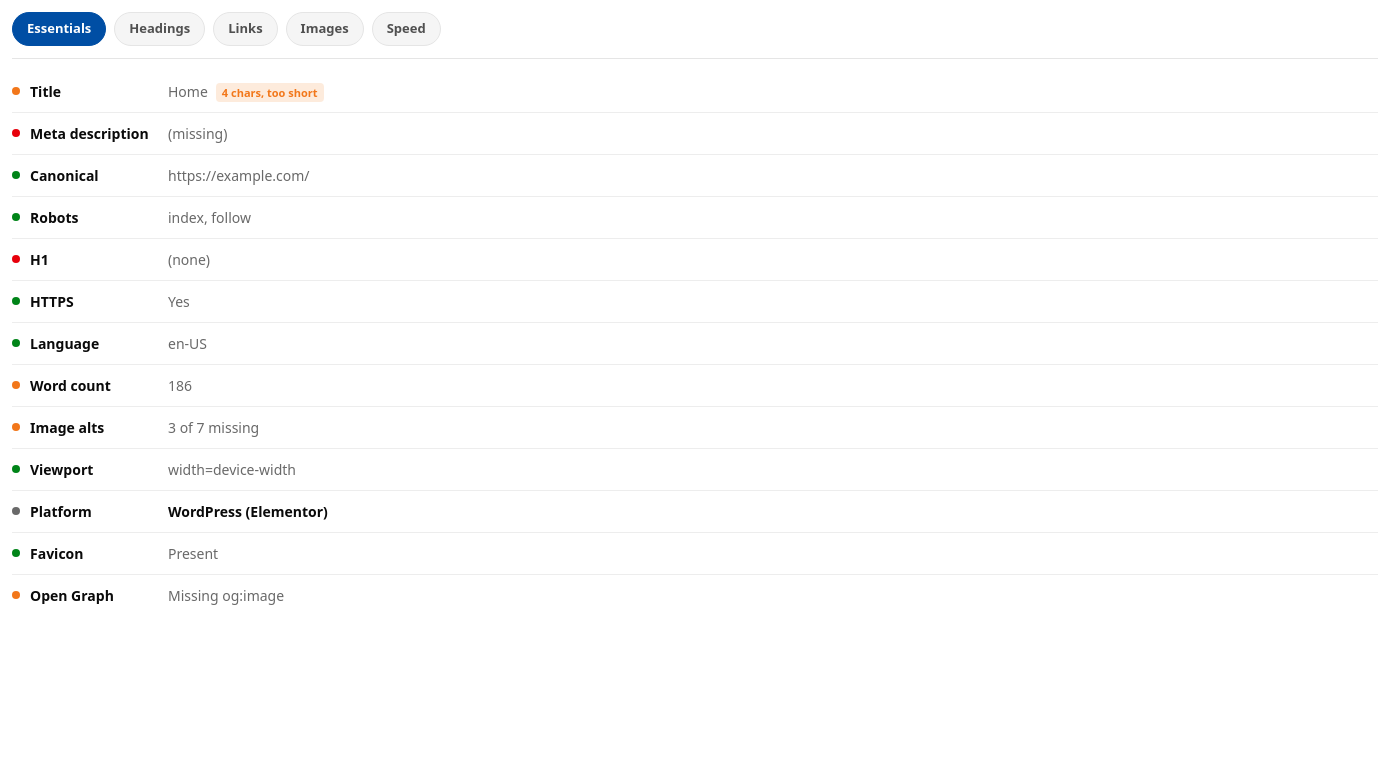
Test: On-Page and Site › on-page: images filter shows only missing alt
Click the button "Images" at (325, 29), box [286,12,364,46]
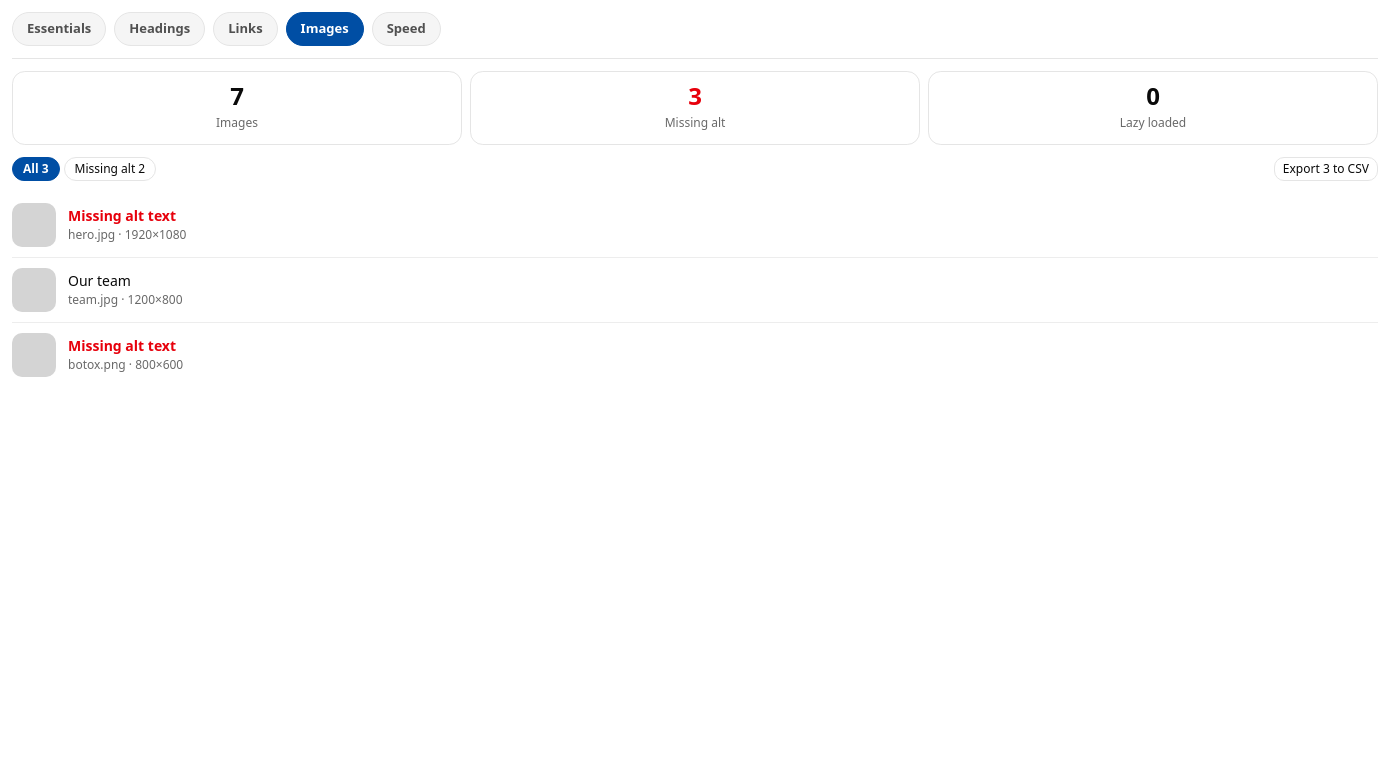
Result: the text "Missing alt text" is shown 2 times at [68,206,176,226]; [68,336,176,356]
Result: the text "Our team" is shown at [68,270,131,290]
Click the button "Missing alt 2" at (110, 168), box [64,156,156,180]
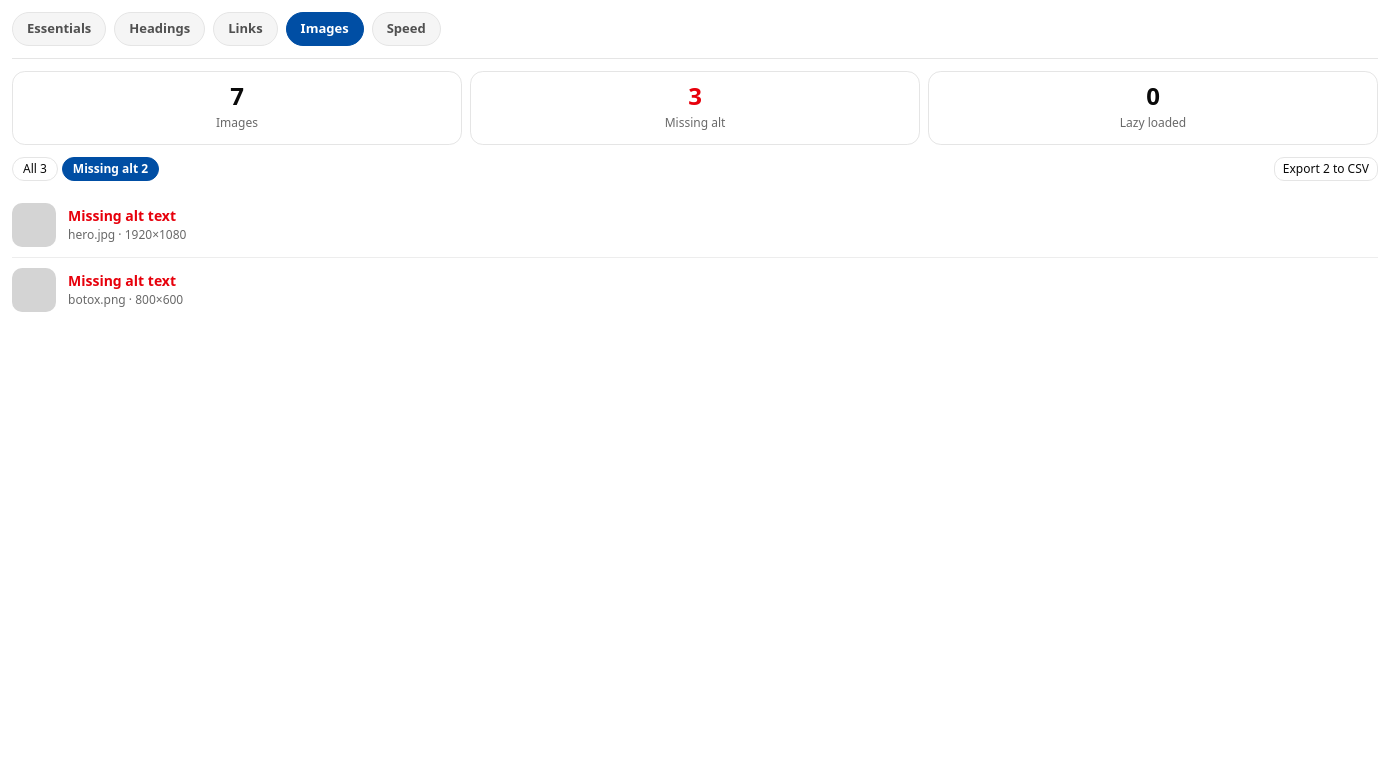
Result: the text "Our team" is gone
Result: the button "Export 2 to CSV" is shown at [1274,156,1378,180]
